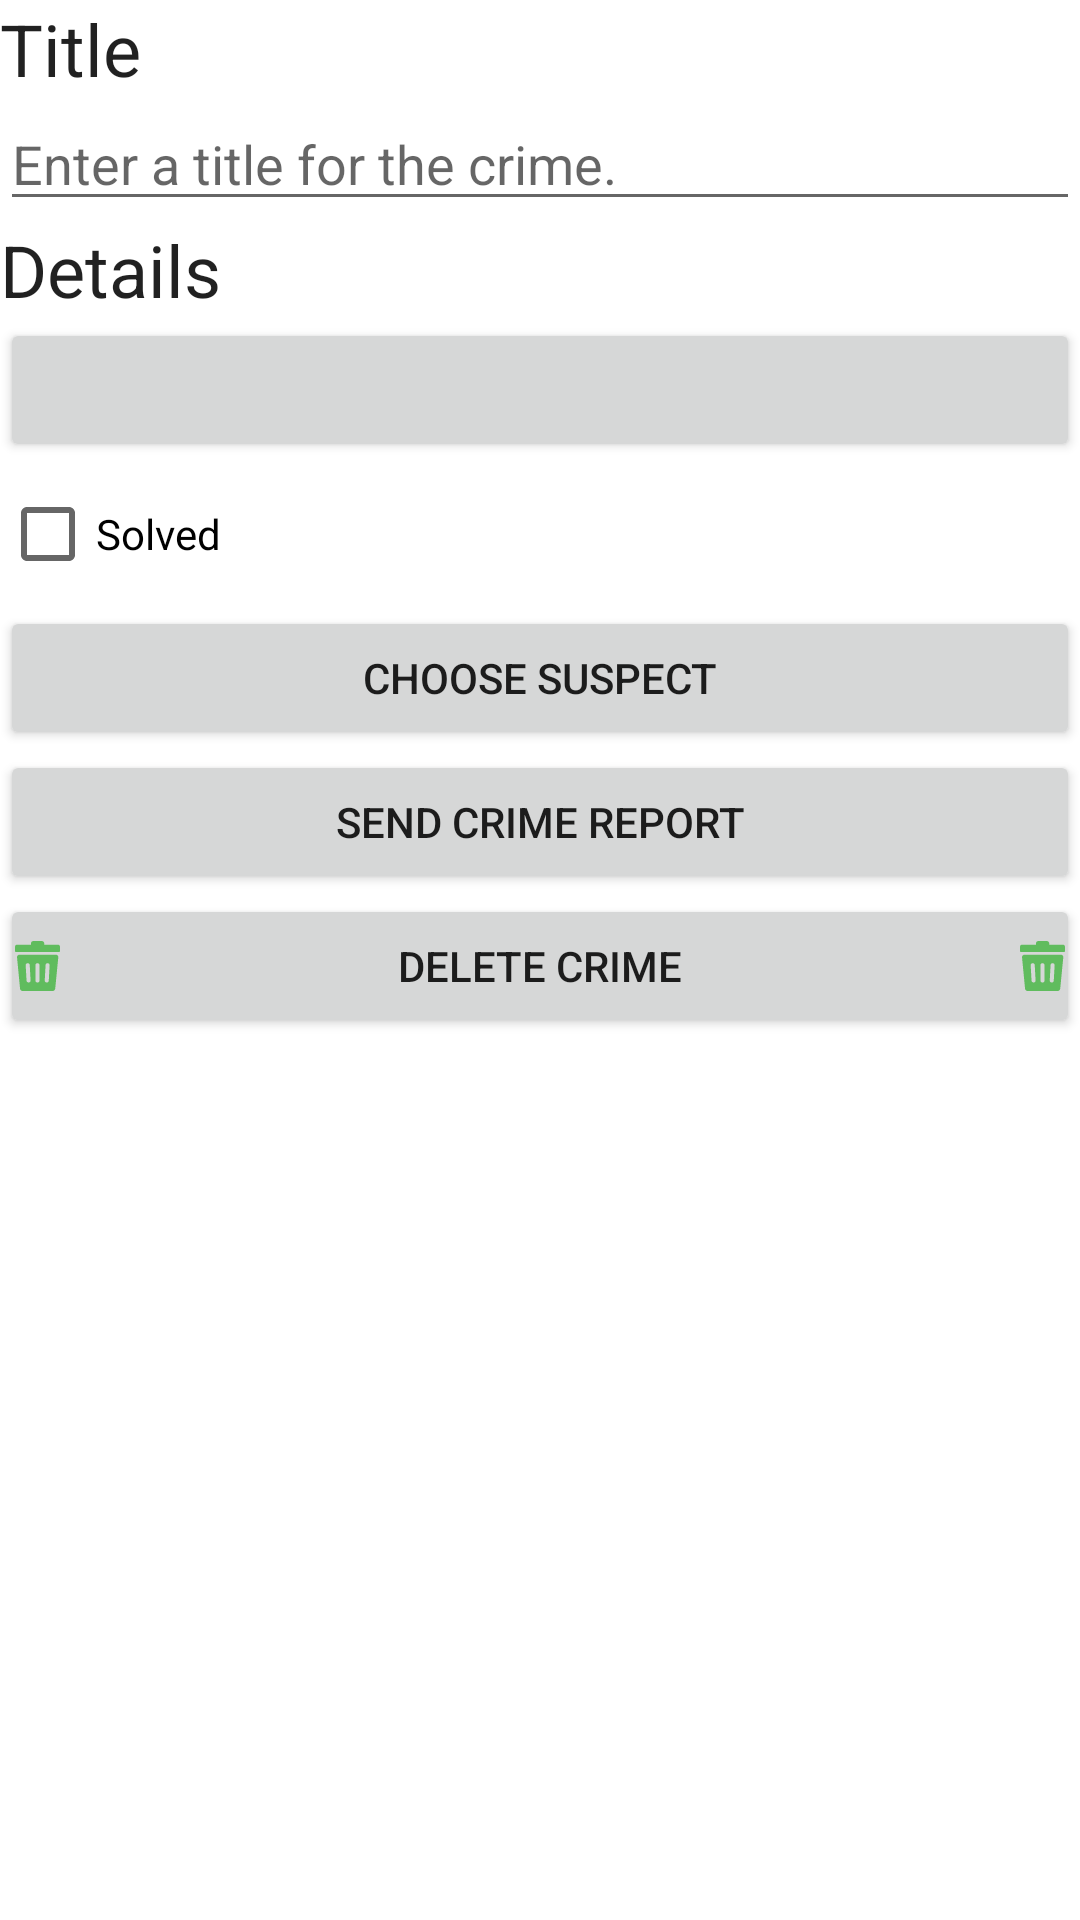

Where to tap for icons on this 1080w x 1920h app screen, as (x,y):
trash can: (37,966), (1042,966)
